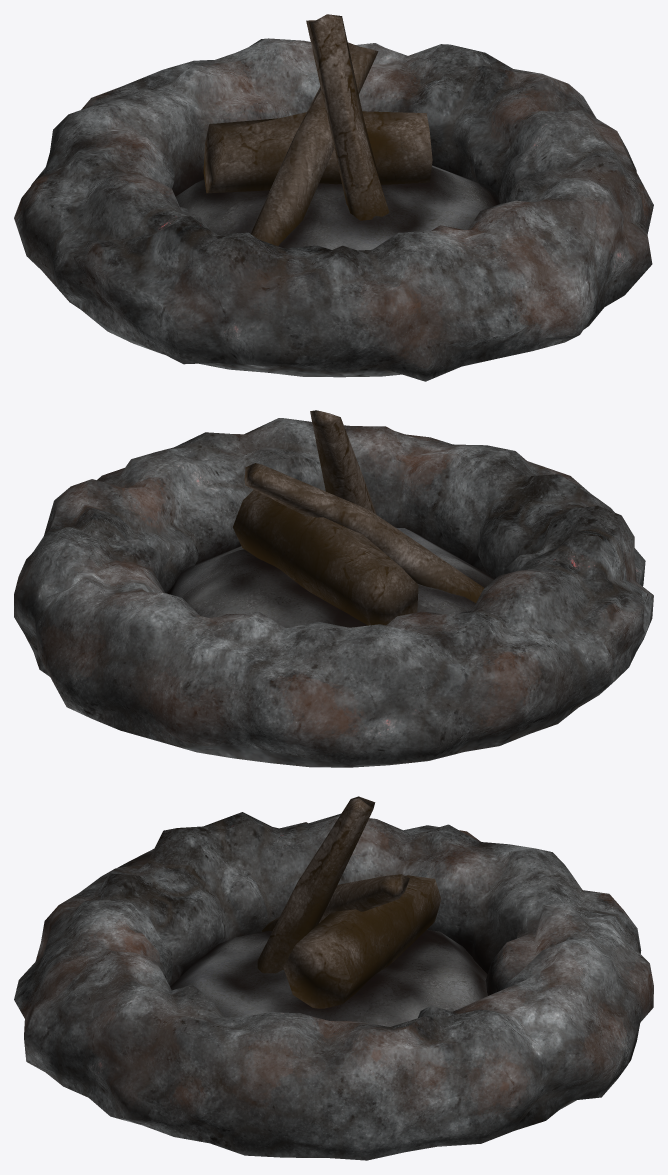
File: KindledSpirits-Campfire.fbx
The picture shows the model from 3 angles, top to bottom: view 1: azimuth 30°, elevation 25°; view 2: azimuth 150°, elevation 25°; view 3: azimuth 270°, elevation 25°; orthographic projection.
Visible parts, largest first — view 1: Campfire-LOD0; view 2: Campfire-LOD0; view 3: Campfire-LOD0.
Boxes of the visible parts, x1,y1,x2,y2 form: Campfire-LOD0: [14, 14, 653, 381]; Campfire-LOD0: [14, 410, 653, 767]; Campfire-LOD0: [14, 796, 653, 1160].
Size of what is drawn, in the model's own units: 435 by 180 by 439.
